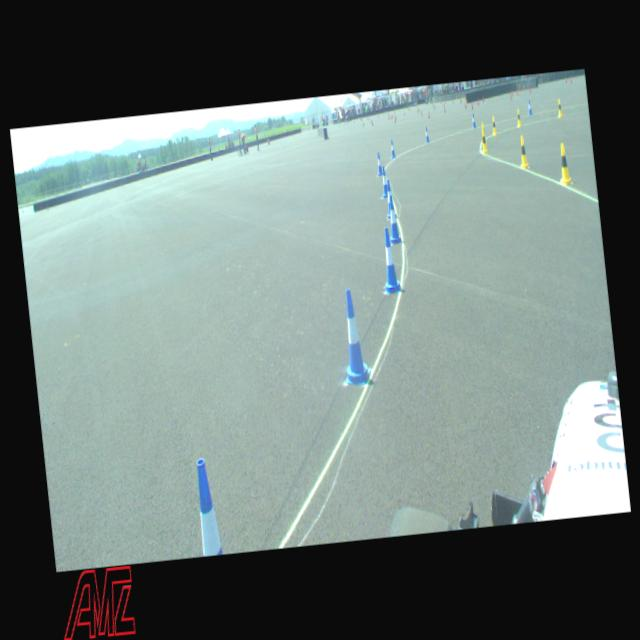blue_cone: (336, 288, 372, 386), (194, 458, 222, 554), (378, 227, 401, 292), (386, 195, 402, 243), (383, 180, 396, 218), (380, 166, 388, 197), (376, 152, 382, 175), (389, 139, 395, 157), (424, 126, 429, 142), (472, 113, 476, 127), (528, 100, 532, 114)
unknown_cone: (471, 101, 474, 108), (509, 92, 512, 99), (428, 110, 430, 118), (476, 98, 478, 105), (420, 109, 422, 116), (570, 76, 572, 83), (529, 85, 531, 92), (464, 101, 466, 108), (394, 116, 396, 123), (516, 89, 518, 95), (511, 90, 513, 96), (443, 106, 445, 112), (388, 114, 390, 120)
yellow_cone: (556, 143, 572, 183), (518, 134, 528, 168), (480, 128, 487, 152), (479, 122, 486, 142), (491, 116, 496, 136), (516, 108, 521, 126), (557, 99, 562, 116)
